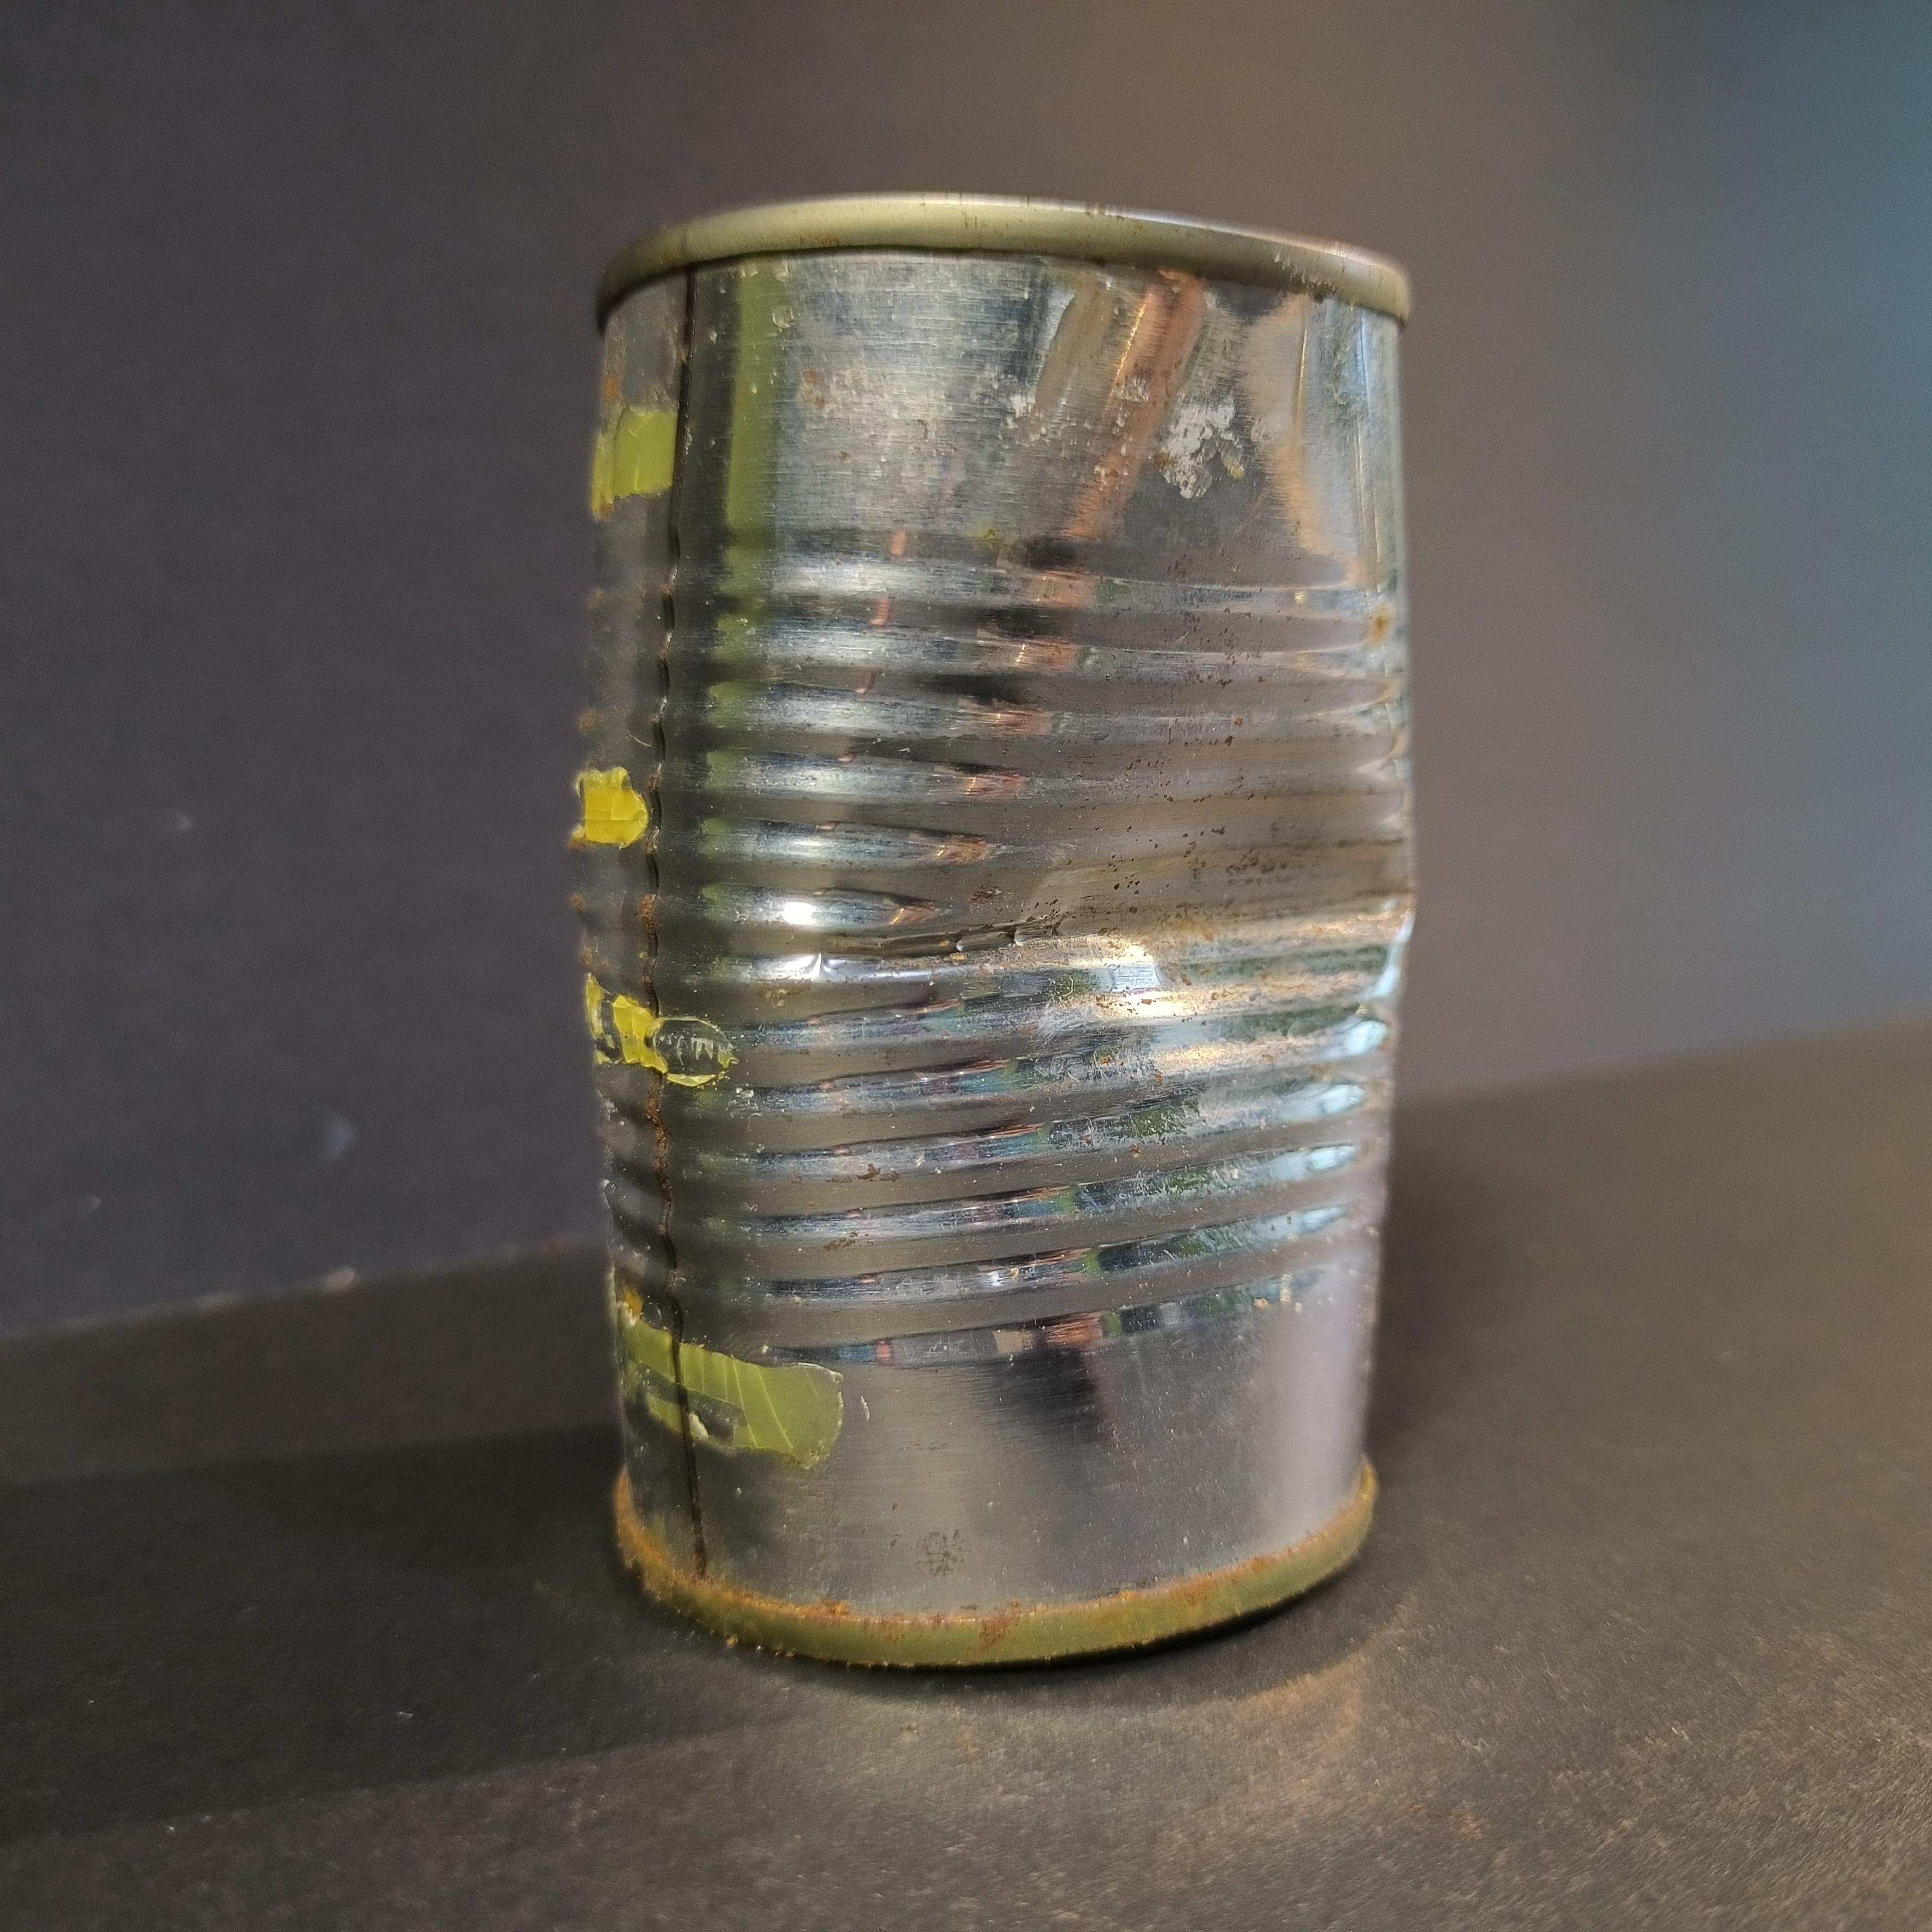Dented: (557, 165, 1414, 1672)
